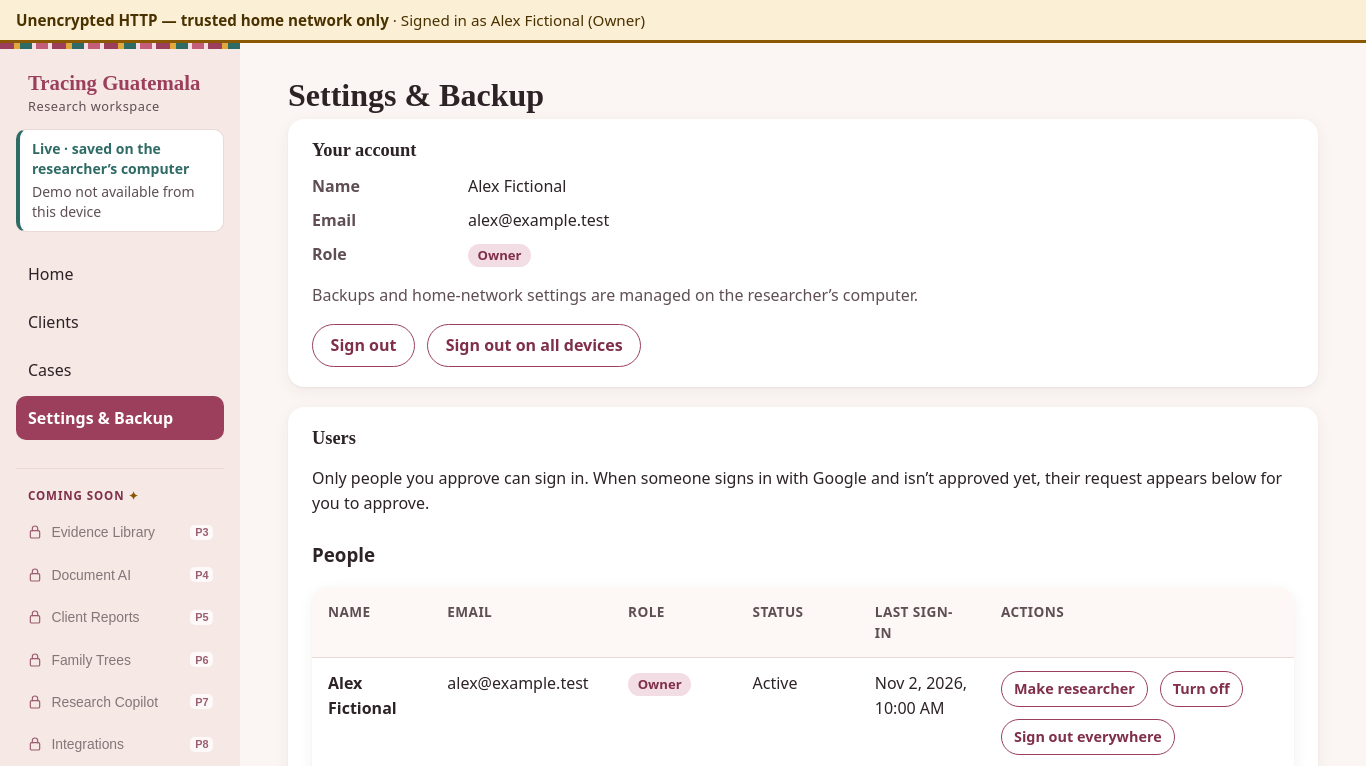
it: Users administration › explains the last-owner refusal
The image size is (1366, 766).
Expected: the heading "Users" is shown, x1=312 y1=428 x2=356 y2=448
Step 1. Click the button with aria-label "Make Alex Fictional a researcher" → (1074, 689), box x1=1001 y1=671 x2=1148 y2=707
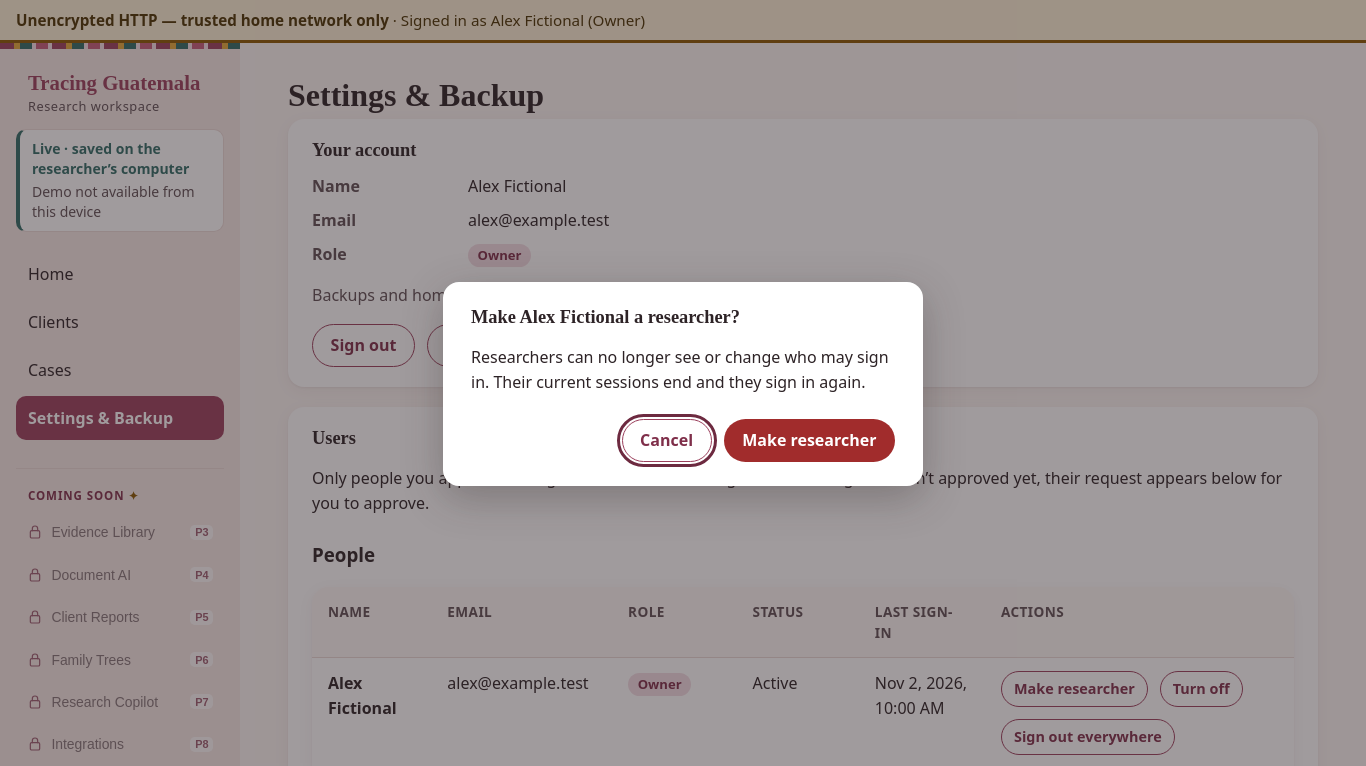
Step 2. Click the button "Make researcher" → (809, 440), box x1=724 y1=419 x2=895 y2=462
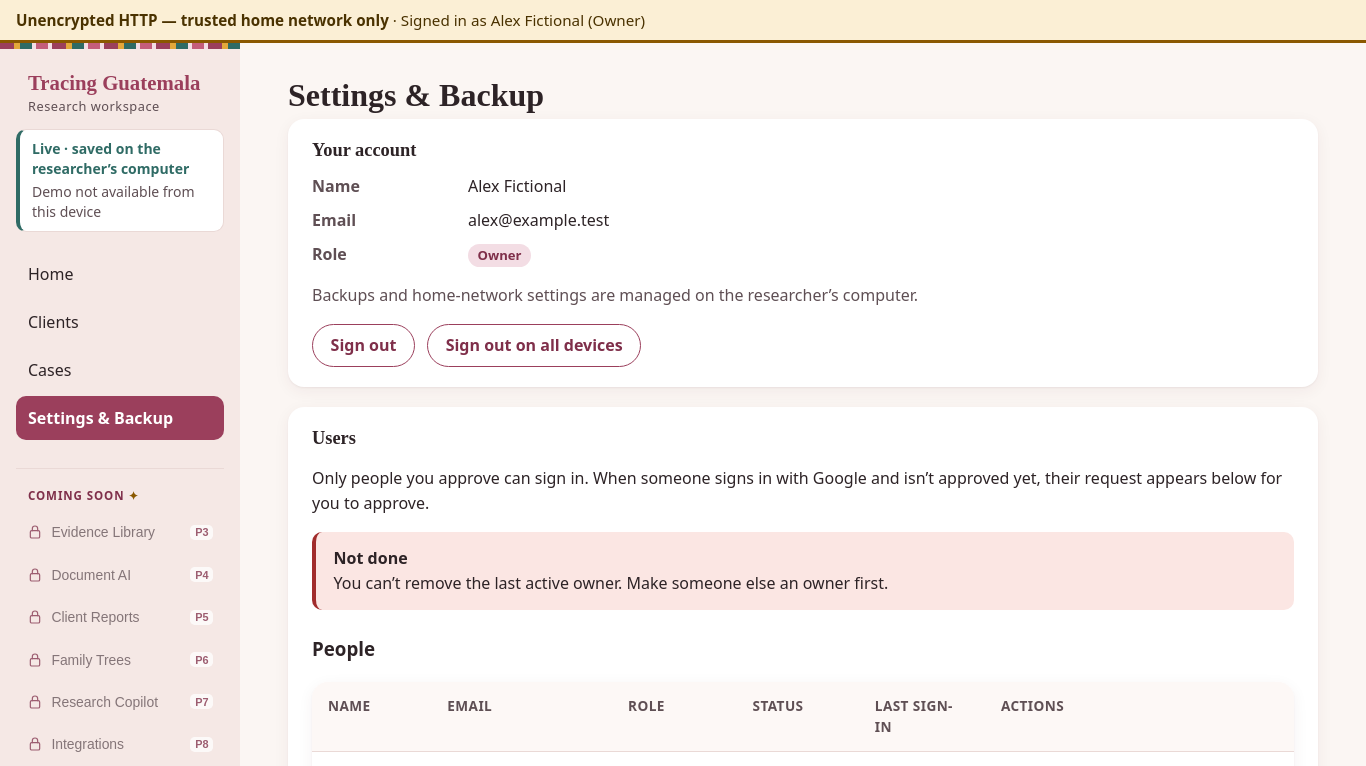
Result: the text "You can’t remove the last active owner. Make someone else an owner first." is shown at x1=334 y1=572 x2=888 y2=594
